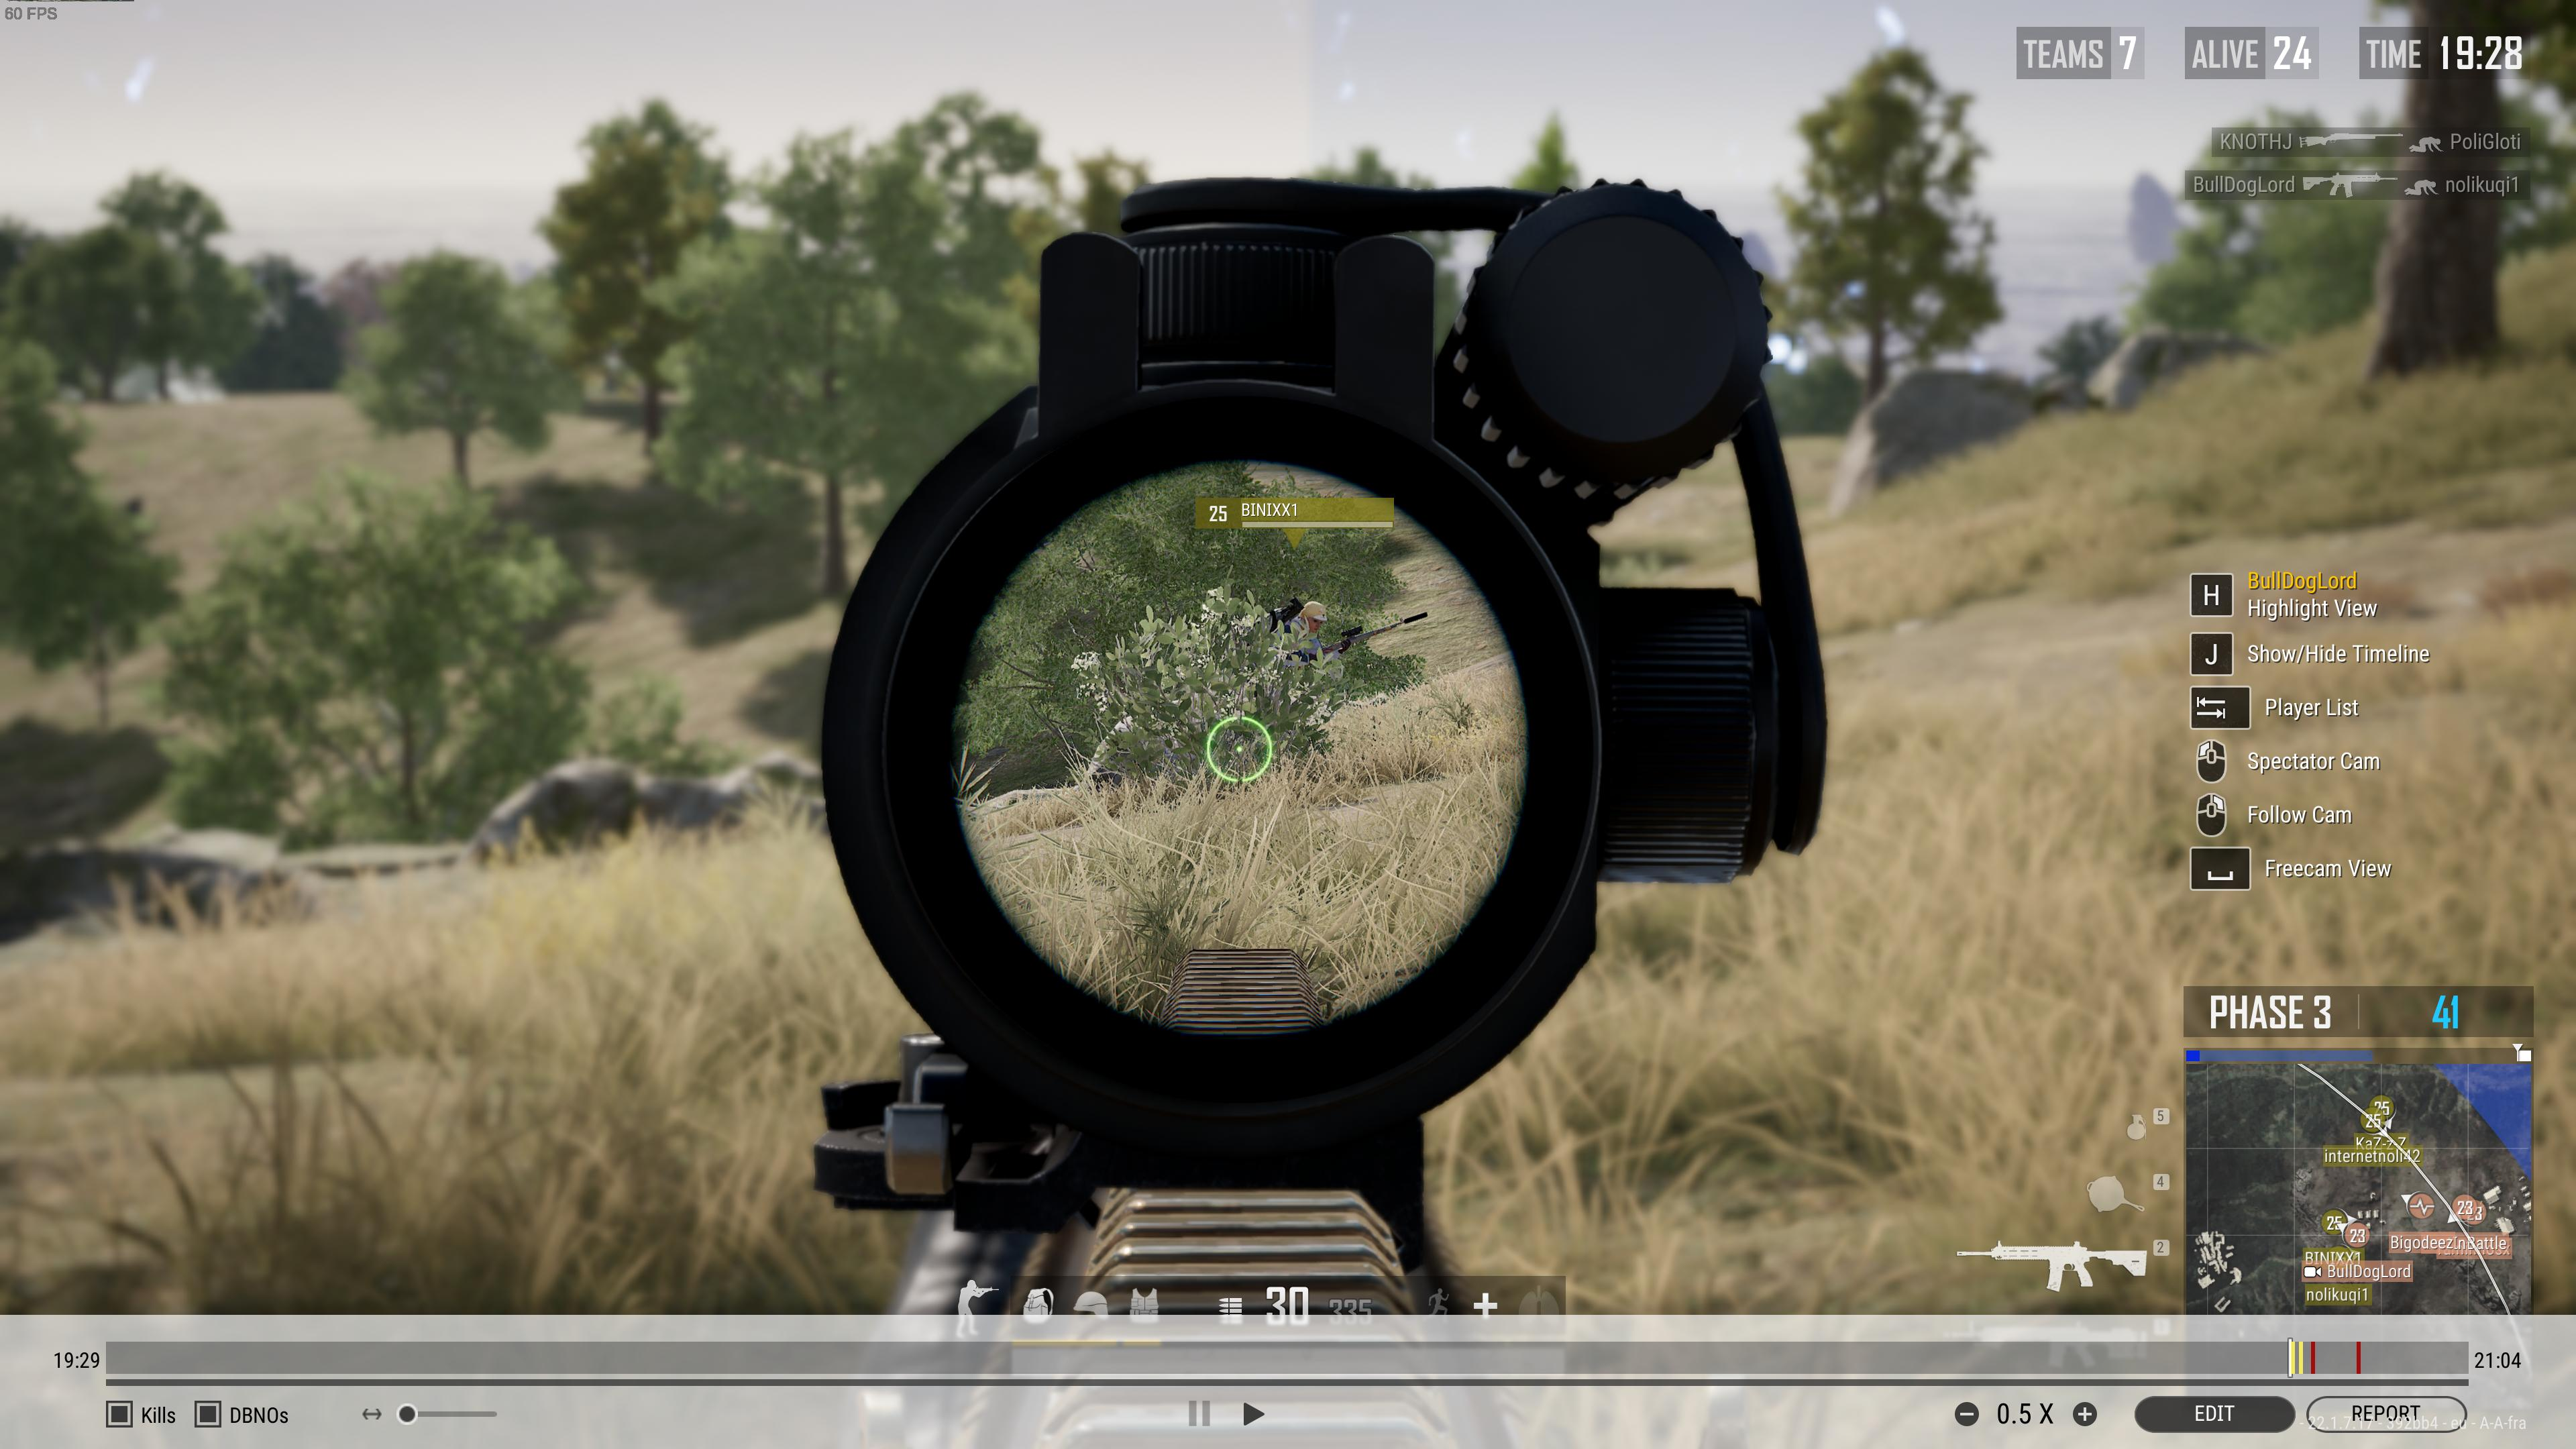enemy: (1265, 594, 1350, 671)
enemy_head: (1299, 600, 1327, 633)
